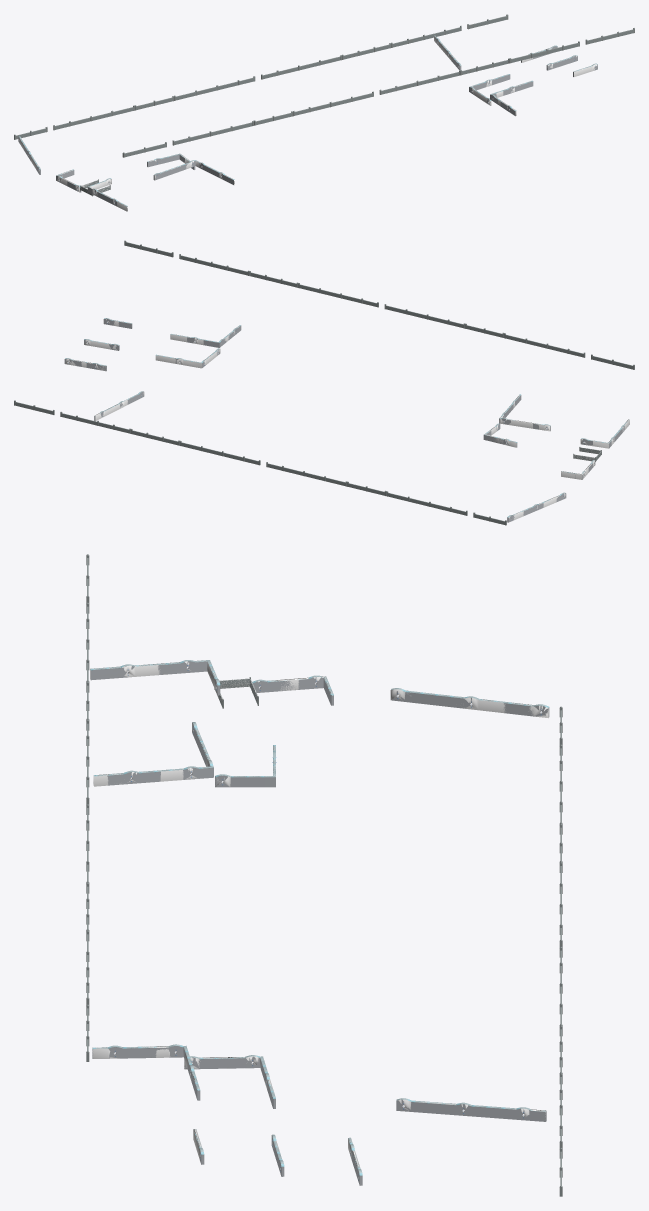
Rendered from objects_un_c02fence01.gltf.
3 views of the same model, one above another, from view 1: azimuth 30°, elevation 25°; view 2: azimuth 150°, elevation 25°; view 3: azimuth 270°, elevation 25° (orthographic). The views are drawn at different scales.
Visible parts, largest first — view 1: um_objects_un_c02fence01_model_lod0Shape:objects_un_c02fence (×3); view 2: um_objects_un_c02fence01_model_lod0Shape:objects_un_c02fence (×3); view 3: um_objects_un_c02fence01_model_lod0Shape:objects_un_c02fence (×3).
Boxes of the visible parts, <box> form: um_objects_un_c02fence01_model_lod0Shape:objects_un_c02fence (×3): <box>14,14,634,211</box>; um_objects_un_c02fence01_model_lod0Shape:objects_un_c02fence (×3): <box>14,240,634,525</box>; um_objects_un_c02fence01_model_lod0Shape:objects_un_c02fence (×3): <box>86,554,562,1196</box>.
Size of what is drawn, in the model's own units: 196 by 27.64 by 78.25.
Materials: 3 (2 with a texture image).
